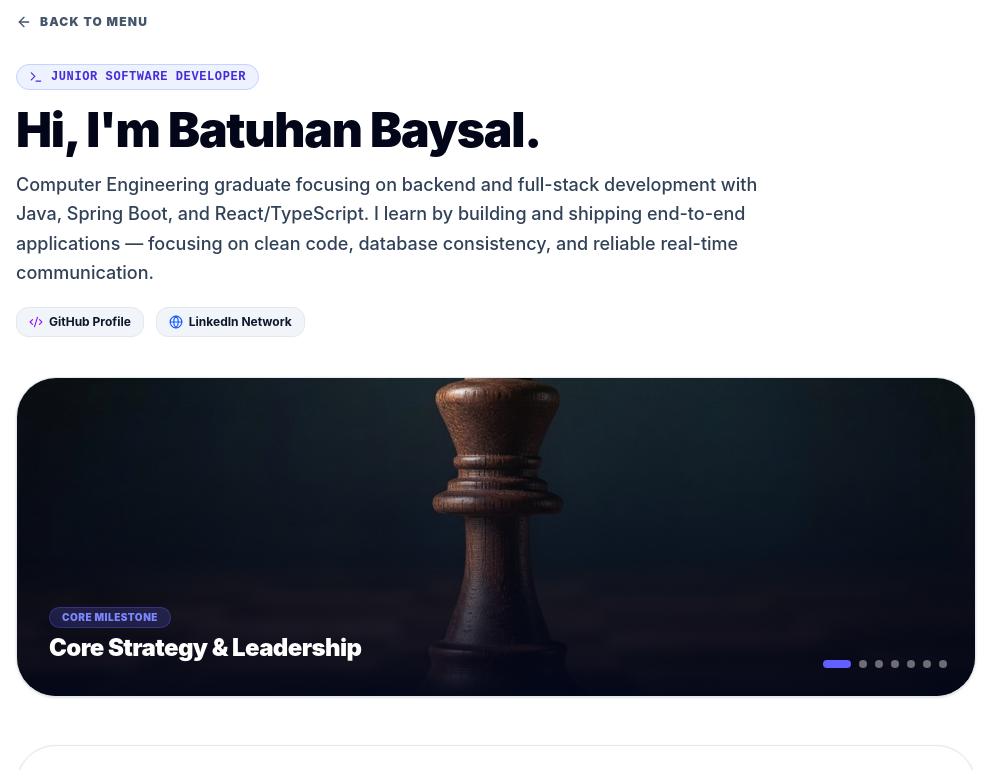
Scenario: About Component › switches carousel image when carousel indicator is clicked
The width and height of the screenshot is (993, 770).
Click the button named "go to slide" at (863, 664), box x1=859 y1=660 x2=867 y2=668
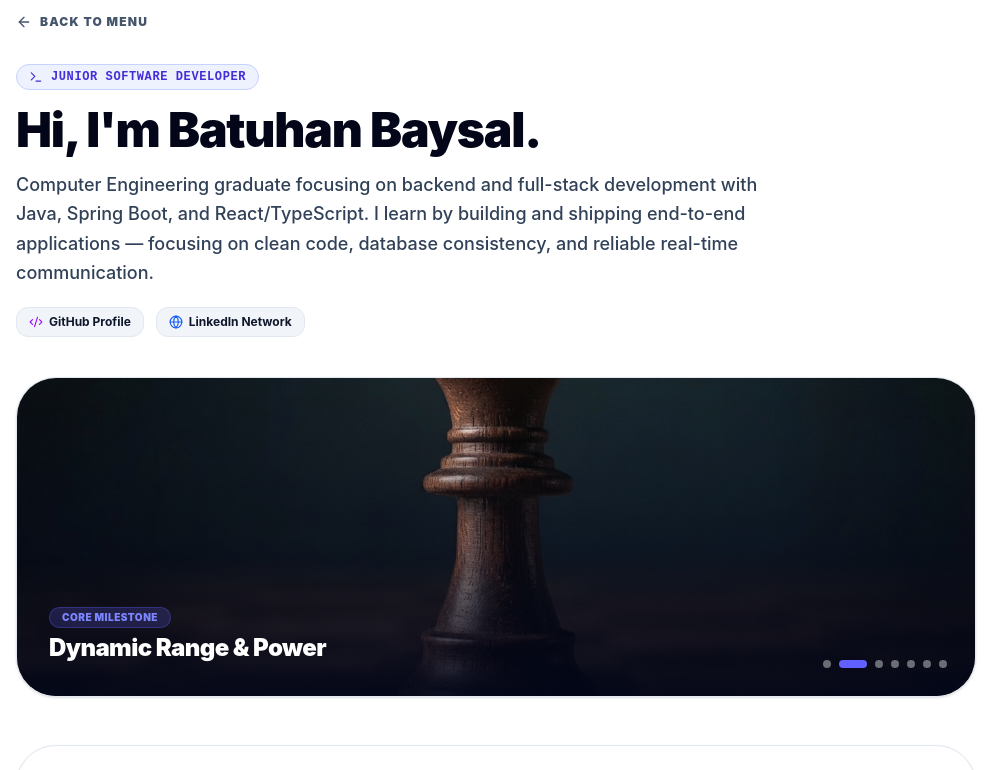
Check: the heading "Dynamic Range & Power" is shown, box x1=49 y1=633 x2=326 y2=662
